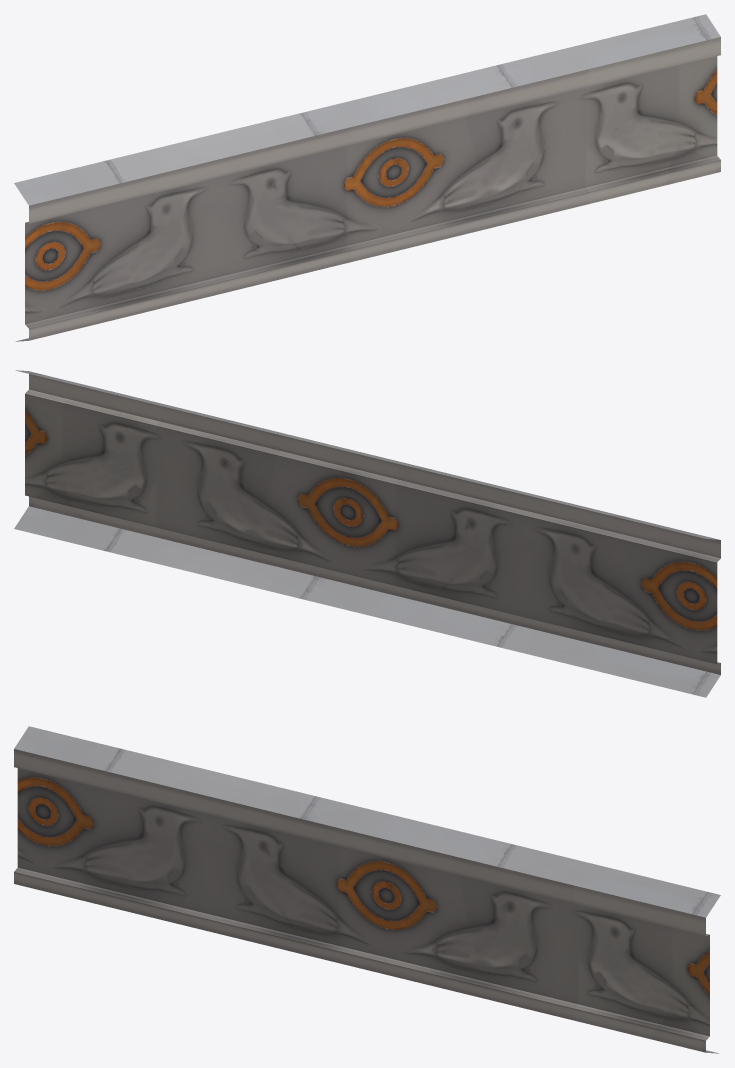
Rendered from SM_WallTrim2m.fbx.
The picture shows the model from 3 angles, top to bottom: view 1: azimuth 30°, elevation 25°; view 2: azimuth 150°, elevation 25°; view 3: azimuth 330°, elevation 25°; orthographic projection.
Parts seen in each view (by area): view 1: SM_WallTrim2m; view 2: SM_WallTrim2m; view 3: SM_WallTrim2m.
Boxes of the visible parts, <box> form: SM_WallTrim2m: <box>14,14,720,341</box>; SM_WallTrim2m: <box>14,370,720,697</box>; SM_WallTrim2m: <box>14,726,720,1053</box>.
Bounding box in the file's own units: 4 × 0.8765 × 0.1485.
